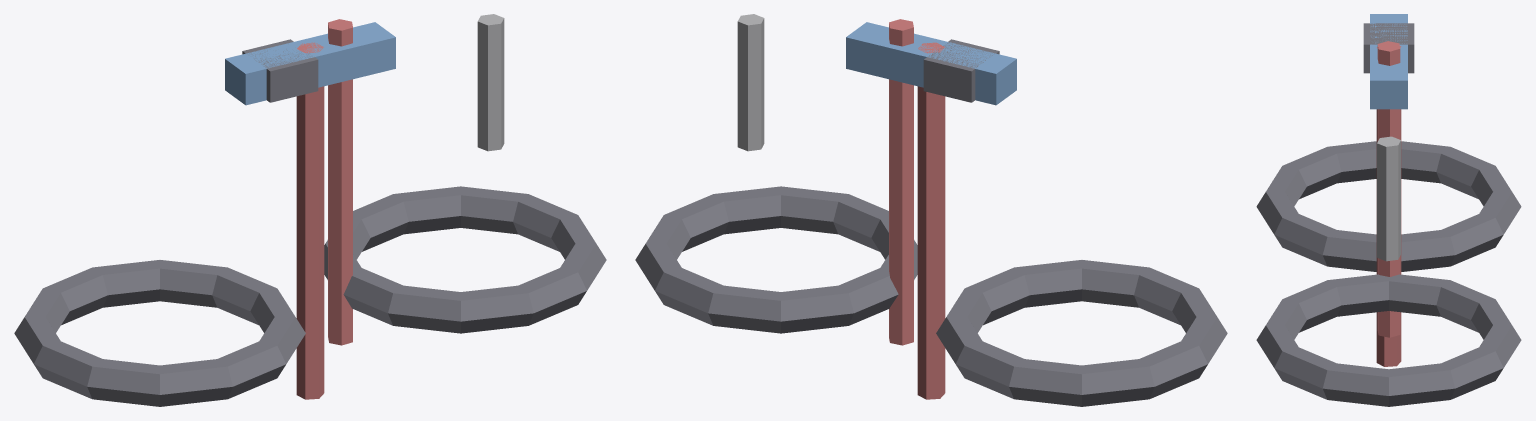
The model's file is kid_bicicleta.glb.
The picture shows the model from 3 angles, left to right: view 1: azimuth 30°, elevation 25°; view 2: azimuth 150°, elevation 25°; view 3: azimuth 270°, elevation 25°; orthographic projection. The views are drawn at different scales.
Visible parts, largest first — view 1: KID_BICICLETA_v01; view 2: KID_BICICLETA_v01; view 3: KID_BICICLETA_v01.
Boxes of the visible parts, x1,y1,x2,y2 form: KID_BICICLETA_v01: [14, 14, 606, 406]; KID_BICICLETA_v01: [635, 14, 1227, 406]; KID_BICICLETA_v01: [1256, 14, 1521, 406].
Bounding box in the file's own units: 0.92 × 0.575 × 0.42.
